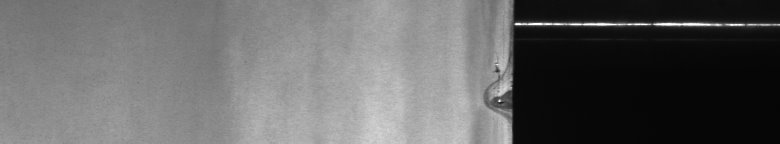hb: (475, 5, 500, 136)
